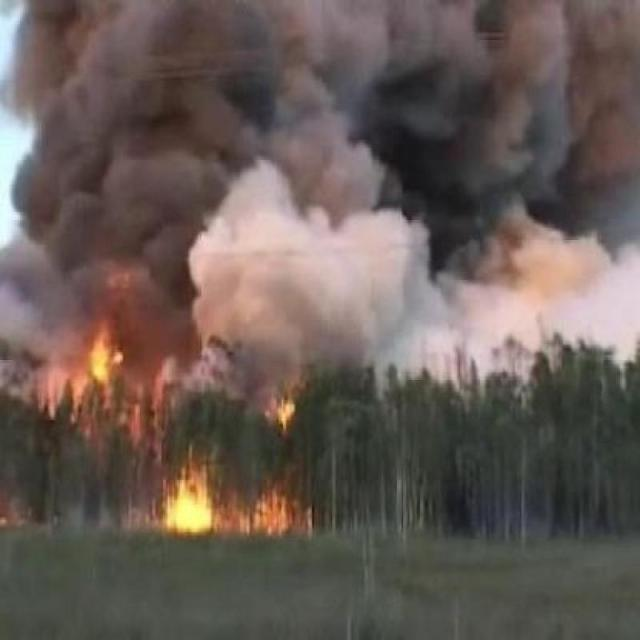Fire: (111, 388, 334, 544)
Smoke: (3, 10, 640, 412)
